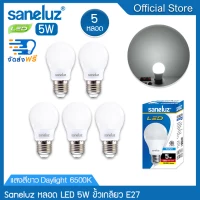Light_bulb: (77, 43, 113, 102), (45, 41, 77, 100), (94, 100, 126, 157), (62, 100, 94, 155), (28, 101, 58, 153)
